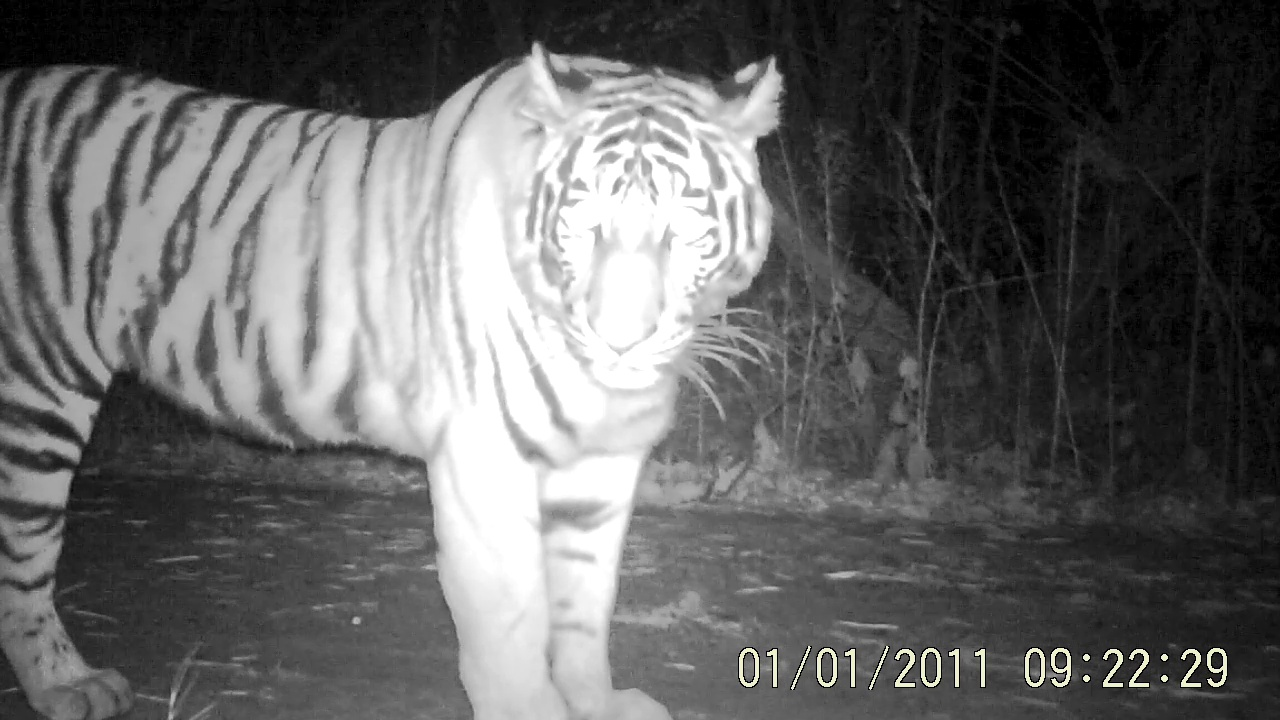Tiger: (1, 30, 797, 720)
